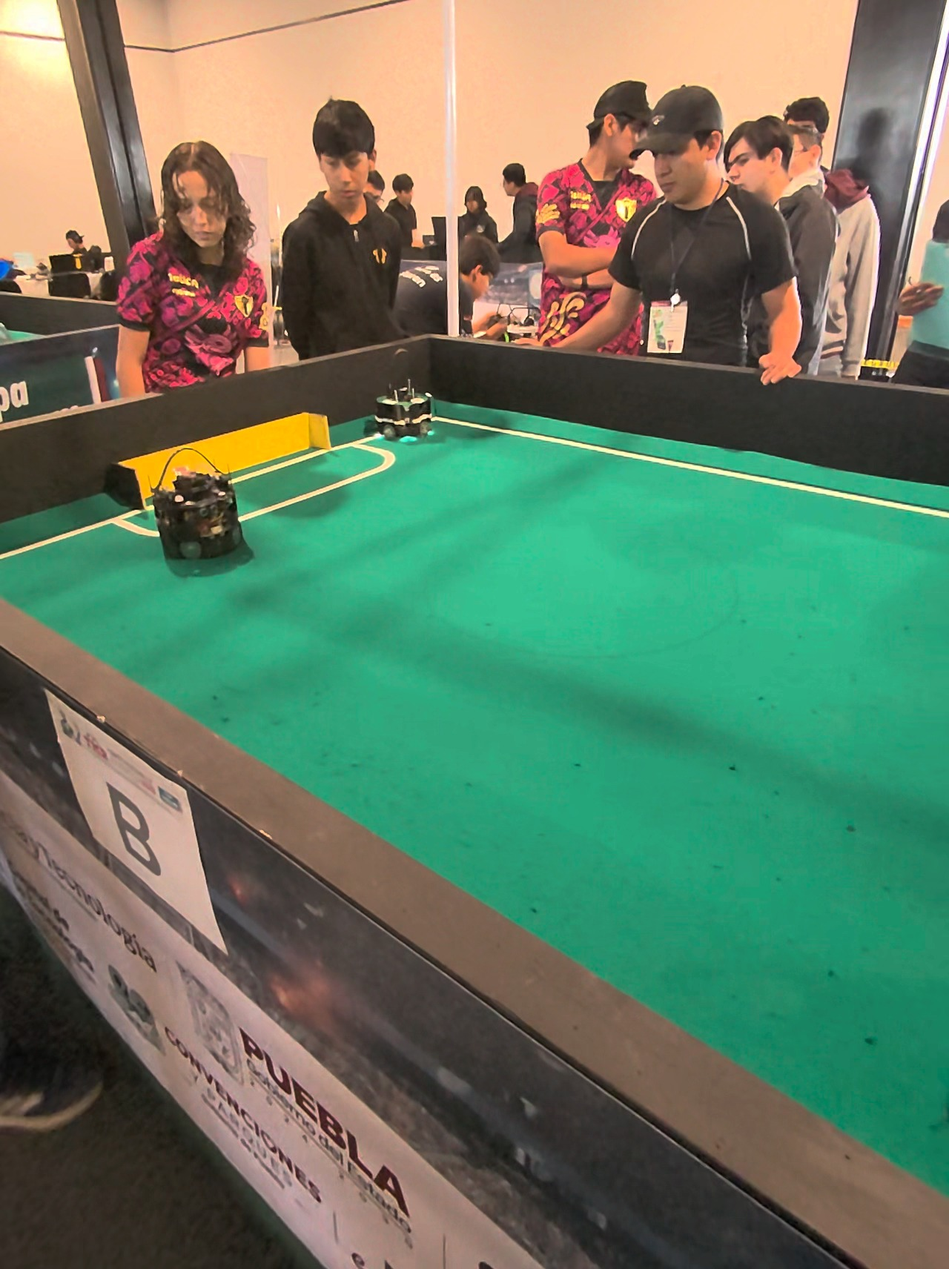Robot: (151, 449, 247, 569), (372, 343, 439, 450)
